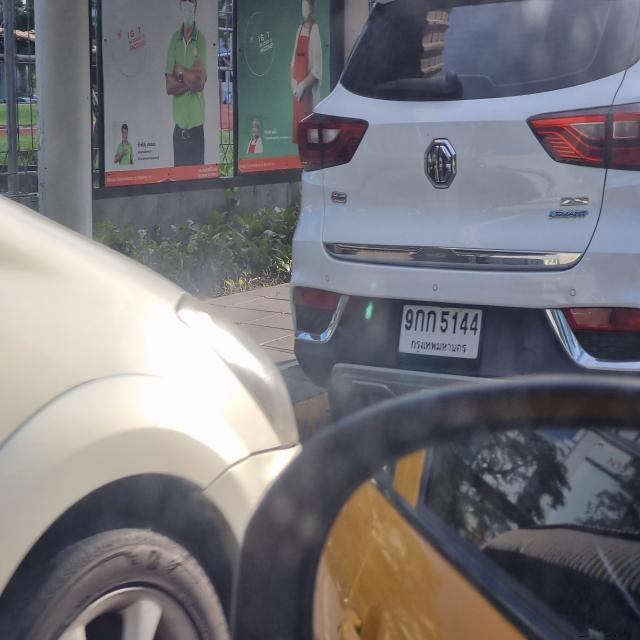license_plate: (395, 297, 485, 361)
